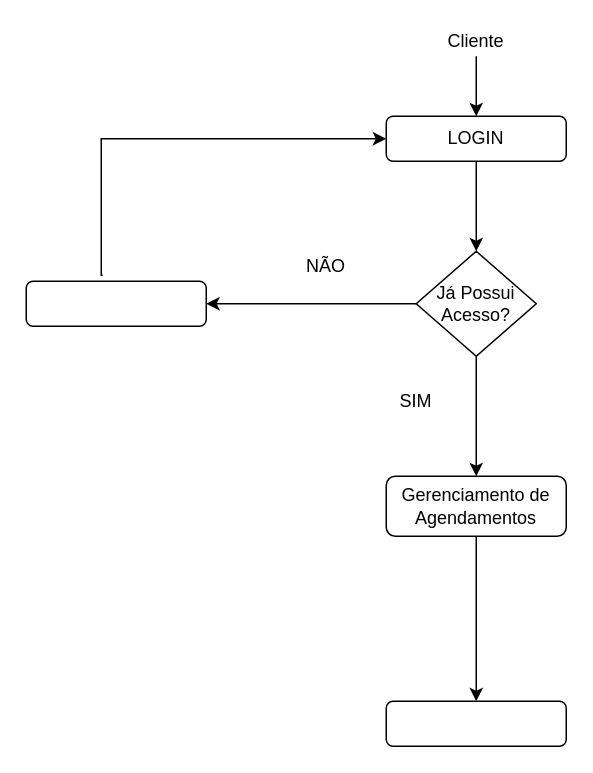
Image size: 593x773. Some labels were removed from this diagram. The box of each missing label's shape, as (x1, y1, x2, y2) in pixels:
Cadastramento: (25, 280, 206, 326)
Gerenciamento de Dados: (385, 700, 566, 746)
